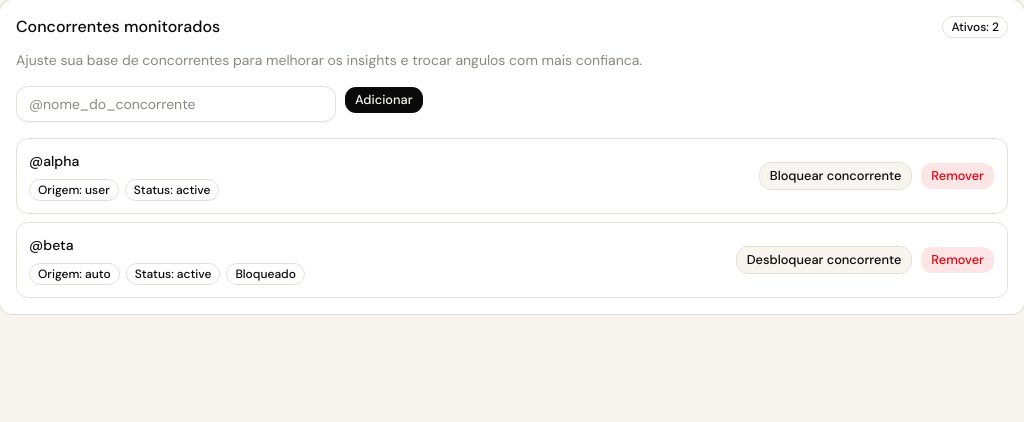
Test: CompetitorSettingsCard › shows replacement notices from backend response
Expected: the text "@alpha" is shown, [29,152,79,170]
Type "@bad" into the field with placeholder "@nome_do_concorrente" at (176, 104), box [16,86,336,122]
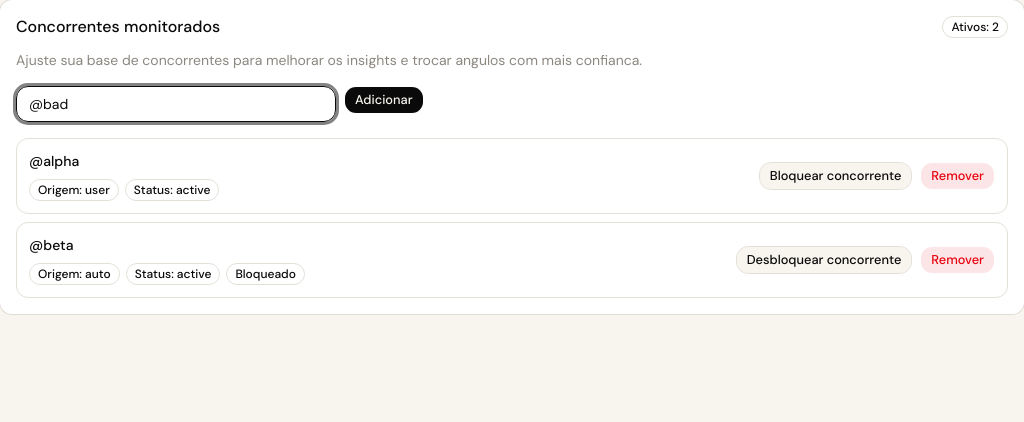
Click the button "Adicionar" at (384, 100), box [344,86,424,114]
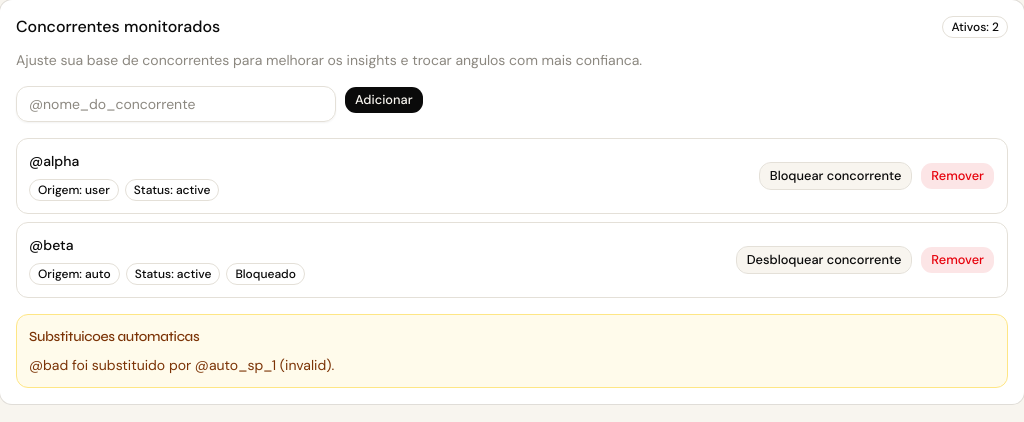
Expected: the heading "Substituicoes automaticas" is shown, [29,328,199,345]
Expected: the list item "@bad foi substituido por @auto_sp_1 (invalid)." is shown, [29,356,334,374]
